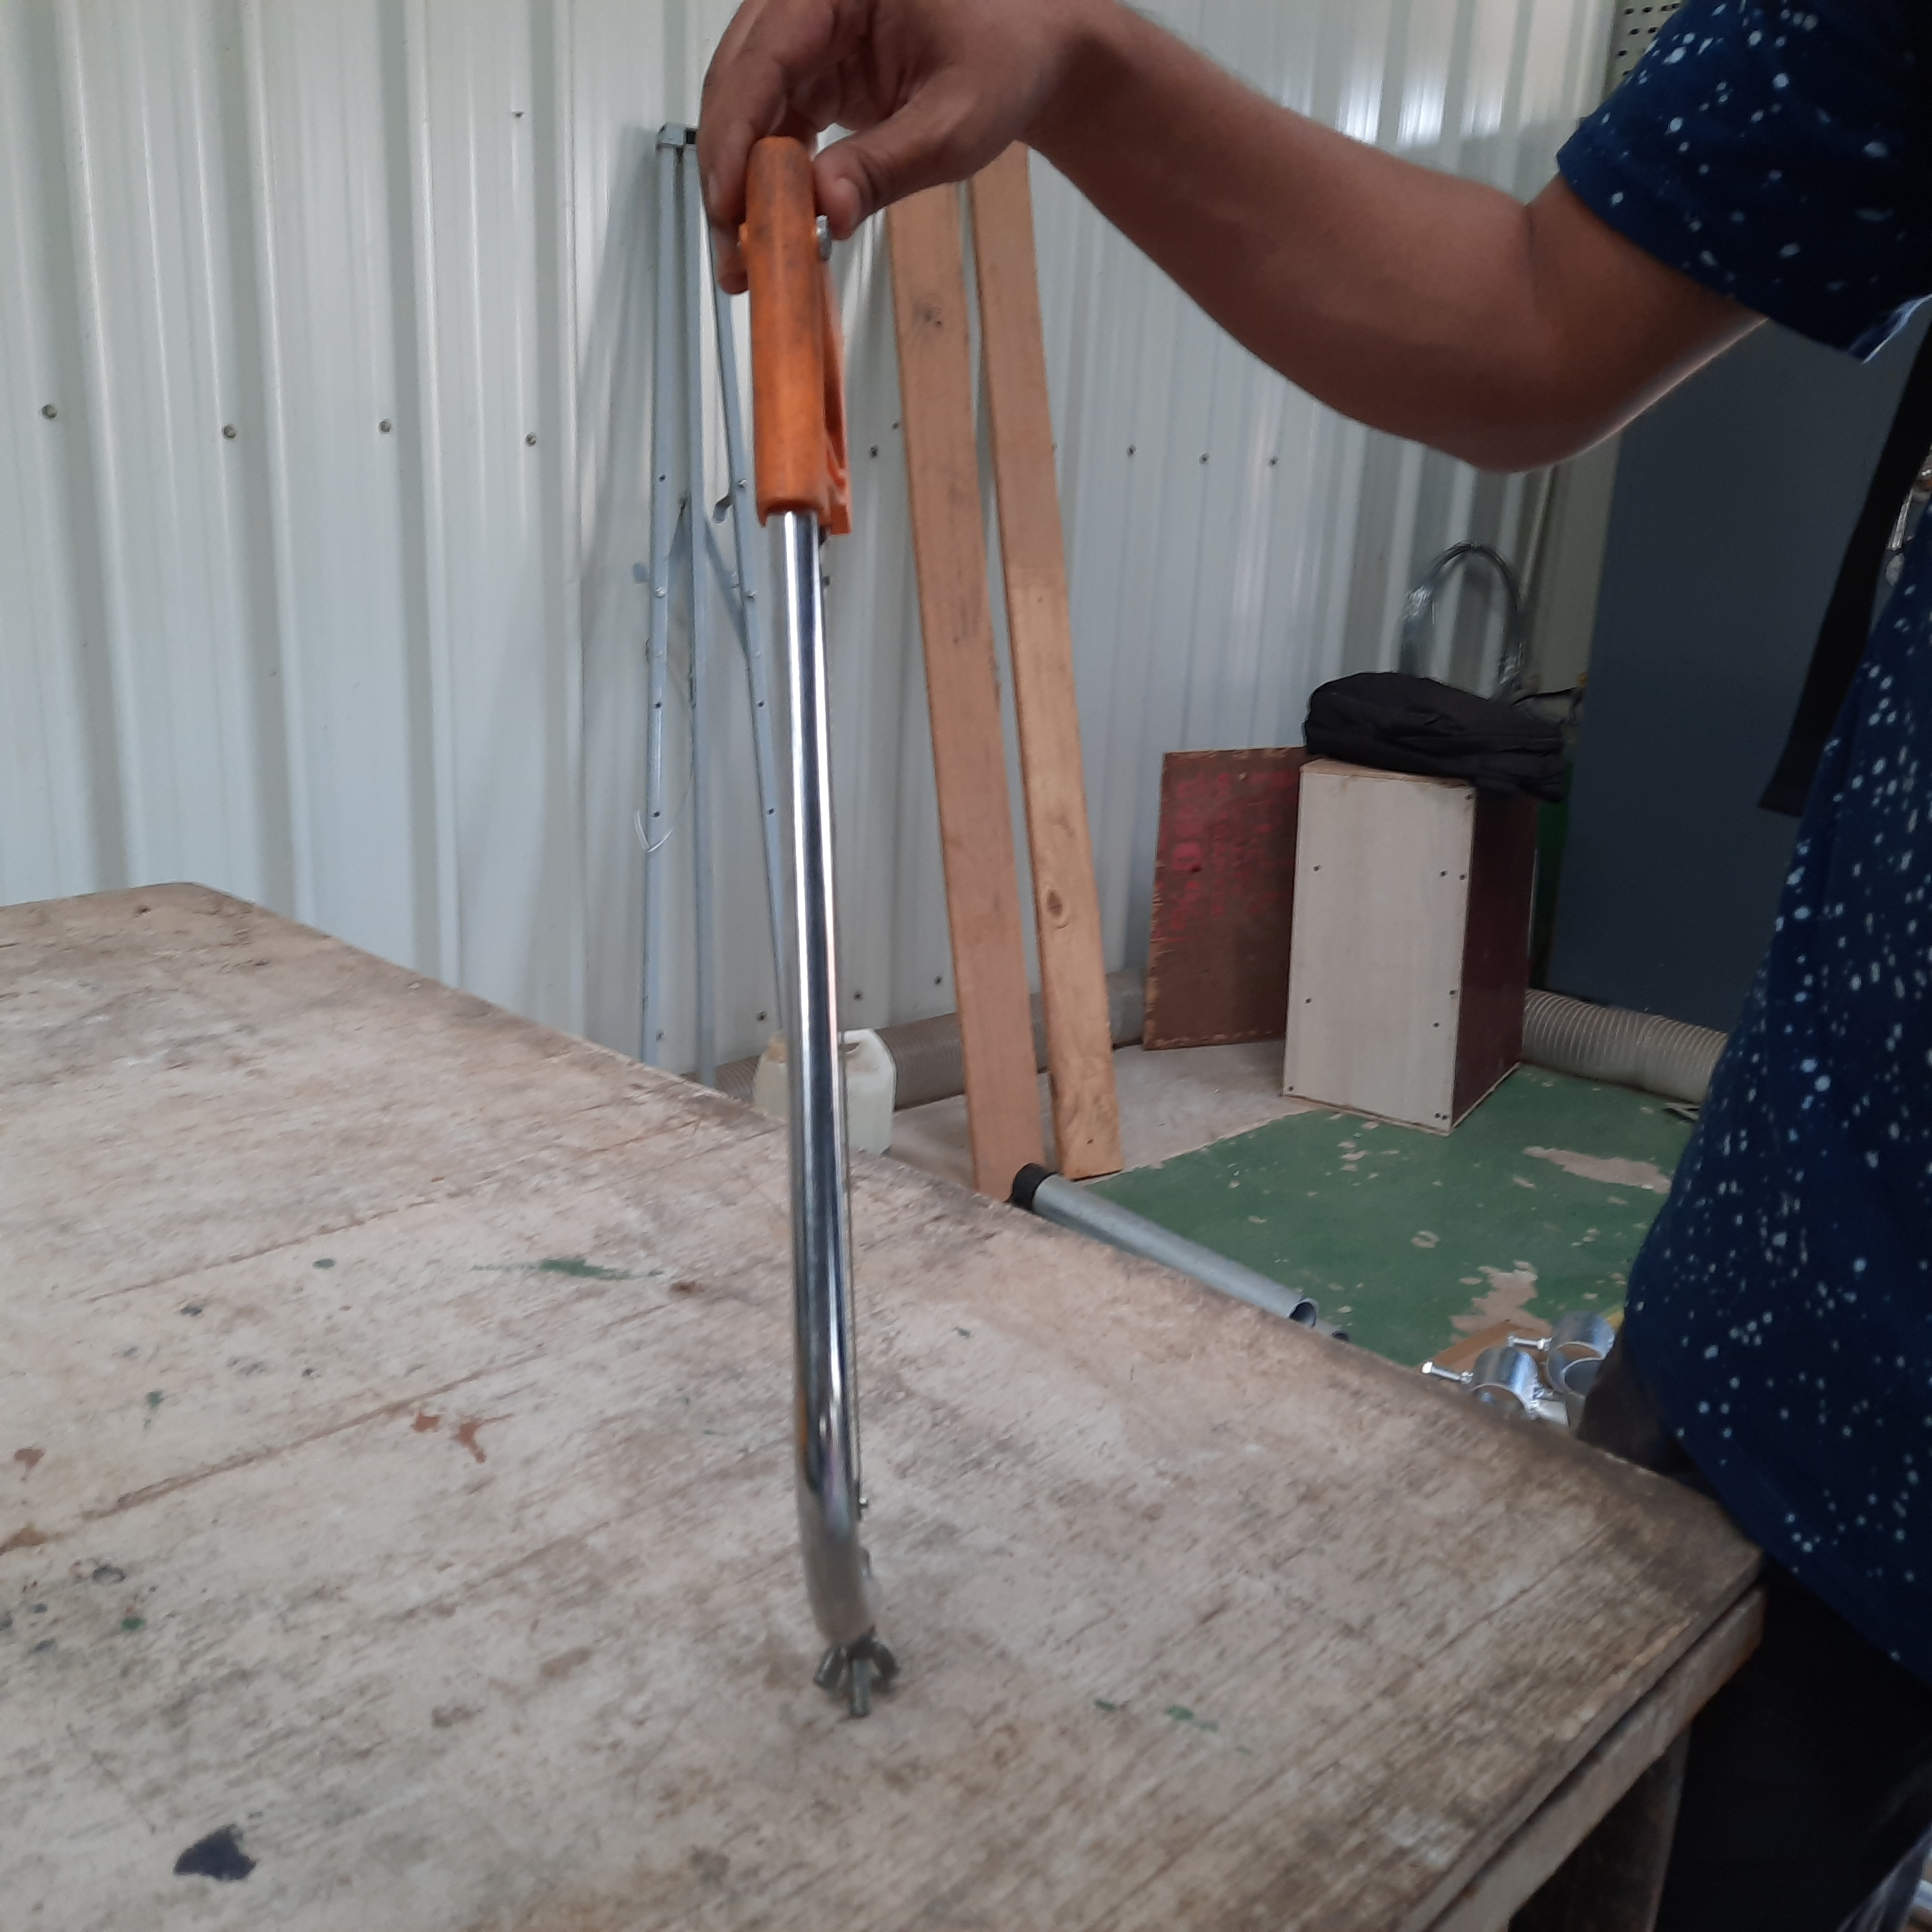Hexaframe: (651, 138, 1053, 1787)
